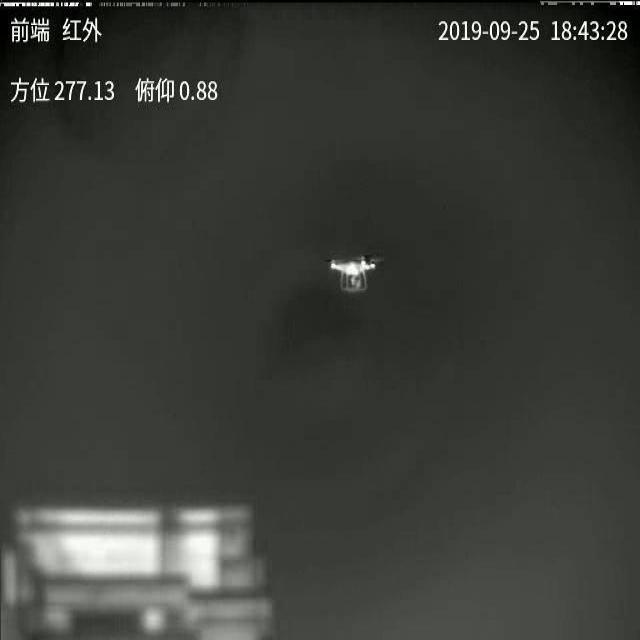drone: (323, 255, 383, 292)
